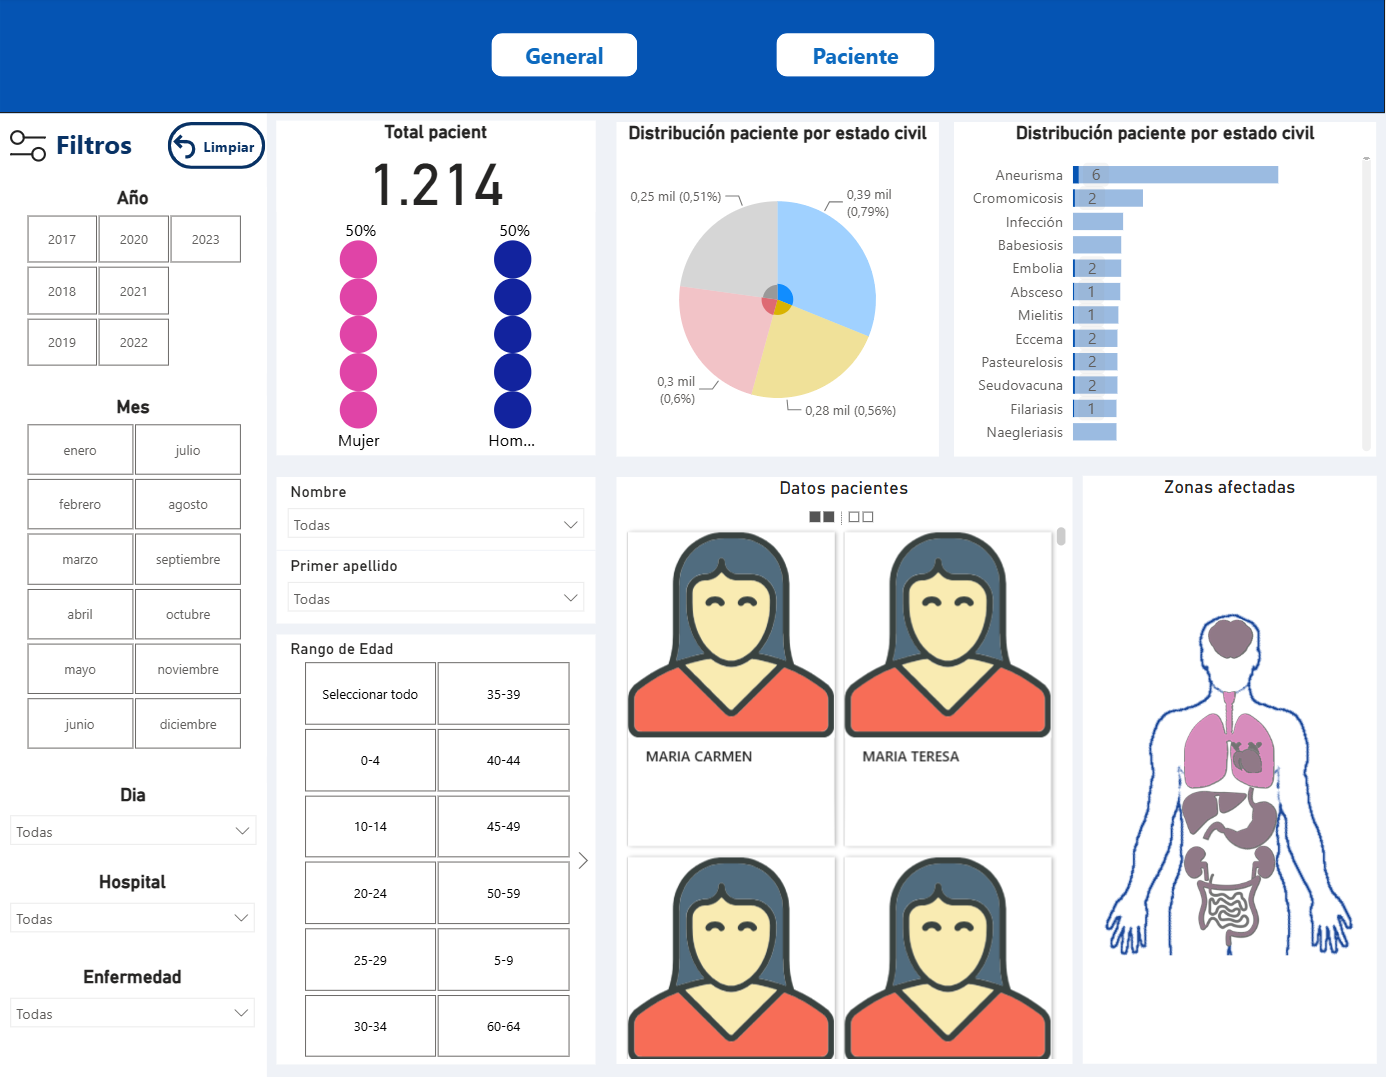

What the dashboard file says about the page in this screenshot:
{"tool":"powerbi","page":{"name":"Página 2","canvas":[1280,1000],"ordinal":1},"visuals":[{"type":"enlightenBubbleStack13709305C6AD4E59B8F78FFEA36FB62E","title":"Distribución pacientes por sexo","fields":{"measure":["CountNonNull(Datos_Paciente_&_Hospital_&_Fecha_Ingreso.Sexo)"],"category":["Datos_Paciente_&_Hospital_&_Fecha_Ingreso.Sexo"]},"box":[256.6,114.2,294.2,309],"z":0},{"type":"card","title":"Total pacient","fields":{"Values":["Medidas.Total_pacientes_sexo"]},"box":[256.6,114.2,294.2,84.4],"z":1000},{"type":"shape","box":[0,107.2,247,893],"z":2000},{"type":"slicer","title":"Año","fields":{"Values":["Datos_Paciente_&_Hospital_&_Fecha_Ingreso.Fecha.Variación.Jerarquía de fechas.Año"]},"box":[0,175.5,247,172],"z":3000},{"type":"slicer","title":"Mes","fields":{"Values":["Datos_Paciente_&_Hospital_&_Fecha_Ingreso.Fecha.Variación.Jerarquía de fechas.Mes"]},"box":[0,368.3,247.4,333],"z":4000},{"type":"slicer","title":"Dia","fields":{"Values":["Datos_Paciente_&_Hospital_&_Fecha_Ingreso.Fecha.Variación.Jerarquía de fechas.Día"]},"box":[0,725.2,247.4,71.8],"z":5000},{"type":"slicer","title":"Hospital","fields":{"Values":["Hospitales.Nombre Centro"]},"box":[0,806.2,246.3,71.8],"z":6000},{"type":"slicer","title":"Enfermedad","fields":{"Values":["Enfermedad_&_Organo_Afectado.Enfermedad"]},"box":[0,894,246.3,71.8],"z":7000},{"type":"group","id":"g1","title":"Grupo 1","box":[155.7,114.8,100,43.3],"z":8000},{"type":"actionButton","box":[1,113.7,51.1,46.7],"z":9000},{"type":"textbox","box":[47.7,113.7,92.2,47.8],"z":10000},{"type":"shape","box":[0,0,1279.4,107.2],"z":11000},{"type":"pieChart","title":"Distribución paciente por estado civil","fields":{"Category":["Datos_Paciente_&_Hospital_&_Fecha_Ingreso.Estado civil"],"Y":["CountNonNull(Datos_Paciente_&_Hospital_&_Fecha_Ingreso.ID_Paciente)"]},"box":[570.1,115.2,297.6,309],"z":12000},{"type":"clusteredBarChart","title":"Distribución paciente por estado civil","fields":{"Category":["ID_Enfermedad_&_ID_Paciente.Enfermedad_&_Organo_Afectado.Enfermedad"],"Y":["CountNonNull(ID_Enfermedad_&_ID_Paciente.ID_paciente)"]},"box":[881.4,115.2,390,309],"z":13000},{"type":"slicer","fields":{"Values":["Datos_Paciente_&_Hospital_&_Fecha_Ingreso.Nombre"]},"box":[256.6,443.6,294.2,67.3],"z":14000},{"type":"slicer","fields":{"Values":["Datos_Paciente_&_Hospital_&_Fecha_Ingreso.Primer apellido"]},"box":[256.6,510.8,294.2,67.3],"z":15000},{"type":"actionButton","box":[155.7,121.5,100,31.1],"z":16000,"group":"g1"},{"type":"slicer","fields":{"Values":["Datos_Paciente_&_Hospital_&_Fecha_Ingreso.Rango_Edad"]},"box":[256.6,588.4,294.2,396.8],"z":16000},{"type":"shape","box":[155.7,114.8,90,43.3],"z":17000,"group":"g1"},{"type":"CardBrowser8D7CFFDA2E7E400C9474F41B9EDBBA58","title":"Datos pacientes","fields":{"id":["Datos_Paciente_&_Hospital_&_Fecha_Ingreso.ID_Paciente"],"metadata":["Min(Datos_Paciente_&_Hospital_&_Fecha_Ingreso.Nombre)","Min(Datos_Paciente_&_Hospital_&_Fecha_Ingreso.Estado civil)","Min(Datos_Paciente_&_Hospital_&_Fecha_Ingreso.Rango_Edad)","Min(Datos_Paciente_&_Hospital_&_Fecha_Ingreso.Municipio)"],"title":["Datos_Paciente_&_Hospital_&_Fecha_Ingreso.Nombre"],"imageUrl":["Tabla.url_img"]},"box":[570.1,443.6,419.6,541.6],"z":17000},{"type":"PBI_CV_815282F9_27F5_4950_9430_E910E0A8DB6A","title":"Zonas afectadas","fields":{"Category":["ID_Partes_Cuerpo.Partes_cuerpo"],"Y":["Min(ID_Paciente_ID_Organos.ID_Partes_cuerpo)"]},"box":[1000,442.4,271.4,542.8],"z":18000},{"type":"actionButton","box":[454.8,33.1,134.5,39.9],"z":19000},{"type":"actionButton","box":[717.1,33.1,146,39.9],"z":20000}]}

Visuals, with their boxes in screenshot pixels (x1, y1, x2, y2), scaled from the page's 1280x1000 canvas onto the 1386x1077 screenshot:
"Distribución pacientes por sexo" enlightenBubbleStack13709305C6AD4E59B8F78FFEA36FB62E: [left=278, top=123, right=596, bottom=456]
"Total pacient" card: [left=278, top=123, right=596, bottom=214]
shape: [left=0, top=115, right=267, bottom=1076]
"Año" slicer: [left=0, top=189, right=267, bottom=374]
"Mes" slicer: [left=0, top=397, right=268, bottom=755]
"Dia" slicer: [left=0, top=781, right=268, bottom=858]
"Hospital" slicer: [left=0, top=868, right=267, bottom=946]
"Enfermedad" slicer: [left=0, top=963, right=267, bottom=1040]
"Grupo 1" group: [left=169, top=124, right=277, bottom=170]
actionButton: [left=1, top=122, right=56, bottom=173]
textbox: [left=52, top=122, right=151, bottom=174]
shape: [left=0, top=0, right=1385, bottom=115]
"Distribución paciente por estado civil" pieChart: [left=617, top=124, right=940, bottom=457]
"Distribución paciente por estado civil" clusteredBarChart: [left=954, top=124, right=1377, bottom=457]
slicer - Datos_Paciente_&_Hospital_&_Fecha_Ingreso.Nombre: [left=278, top=478, right=596, bottom=550]
slicer - Datos_Paciente_&_Hospital_&_Fecha_Ingreso.Primer apellido: [left=278, top=550, right=596, bottom=623]
actionButton: [left=169, top=131, right=277, bottom=164]
slicer - Datos_Paciente_&_Hospital_&_Fecha_Ingreso.Rango_Edad: [left=278, top=634, right=596, bottom=1061]
shape: [left=169, top=124, right=266, bottom=170]
"Datos pacientes" CardBrowser8D7CFFDA2E7E400C9474F41B9EDBBA58: [left=617, top=478, right=1072, bottom=1061]
"Zonas afectadas" PBI_CV_815282F9_27F5_4950_9430_E910E0A8DB6A: [left=1083, top=476, right=1377, bottom=1061]
actionButton: [left=492, top=36, right=638, bottom=79]
actionButton: [left=776, top=36, right=935, bottom=79]
